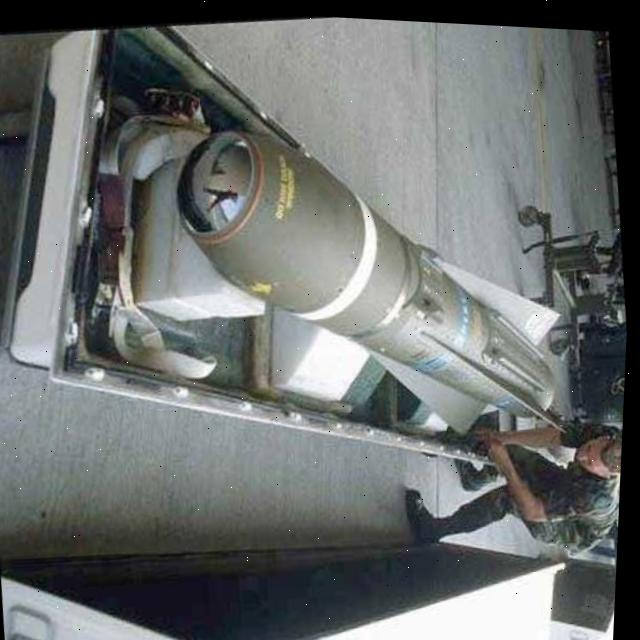missile: (158, 85, 583, 468)
